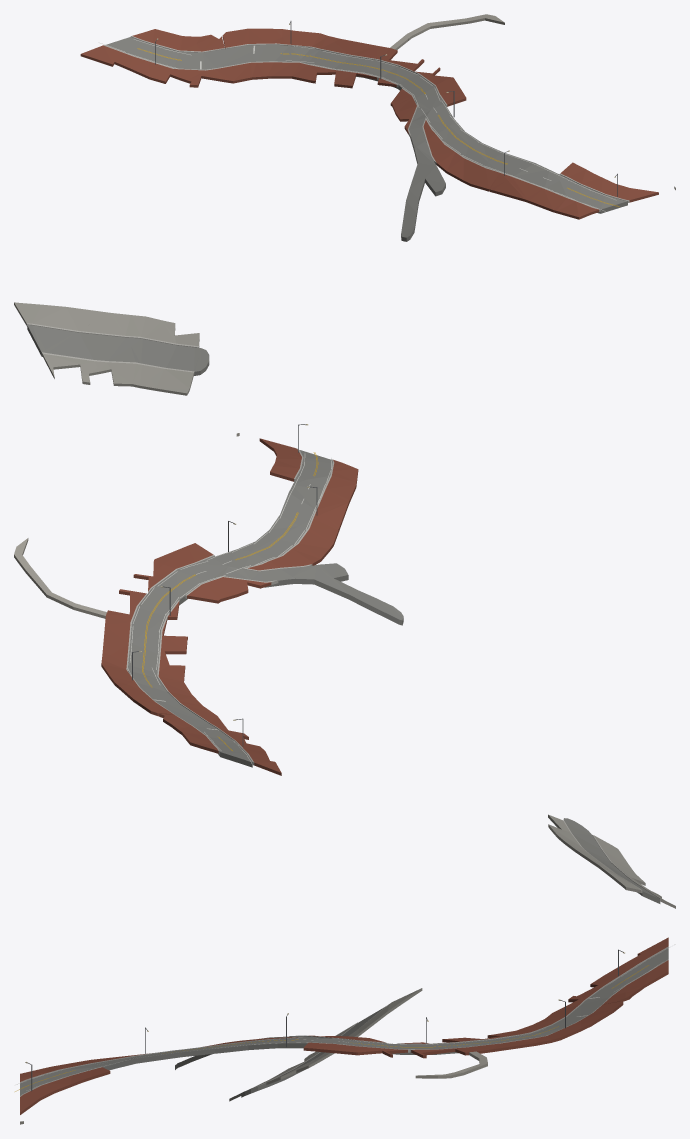
The picture shows the model from 3 angles, top to bottom: view 1: azimuth 30°, elevation 25°; view 2: azimuth 150°, elevation 25°; view 3: azimuth 270°, elevation 25°; orthographic projection. The views are drawn at different scales.
Size of the model in its own units: 147 by 62.28 by 149.
